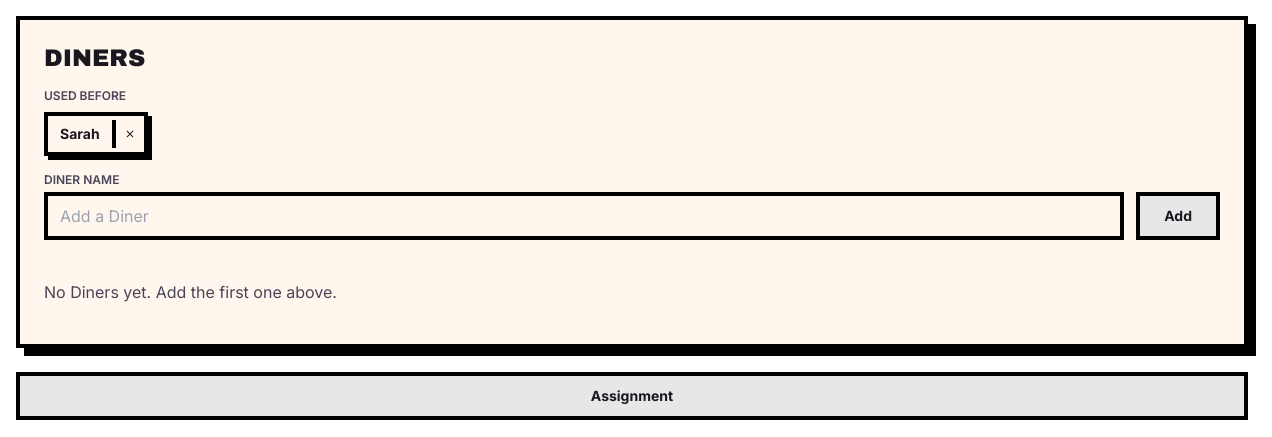
Test: DinerSetupScreen › forgetting a remembered name removes its chip
Click the button named "forget sarah": [128, 134] box x1=112 y1=120 x2=144 y2=148
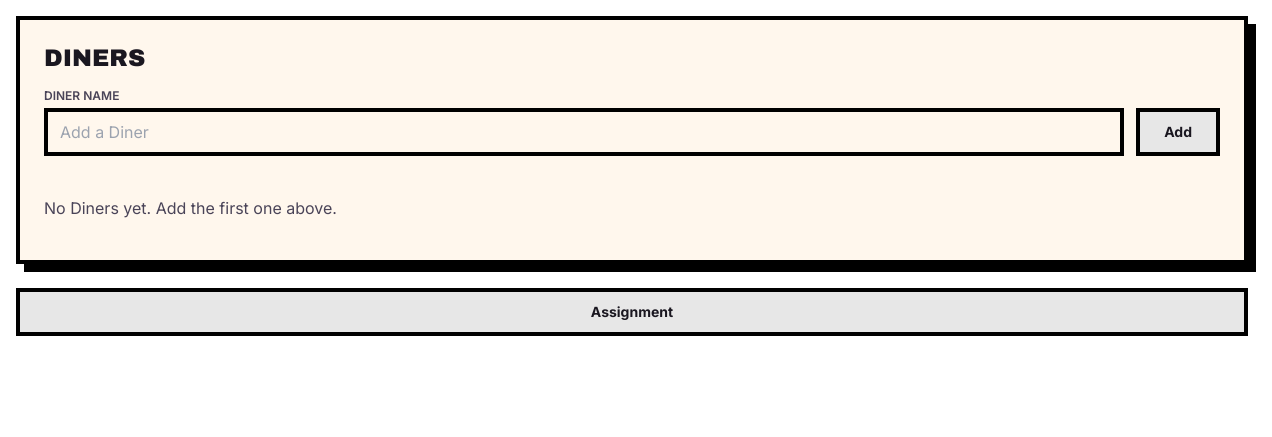
Check: the button "Sarah" is gone
